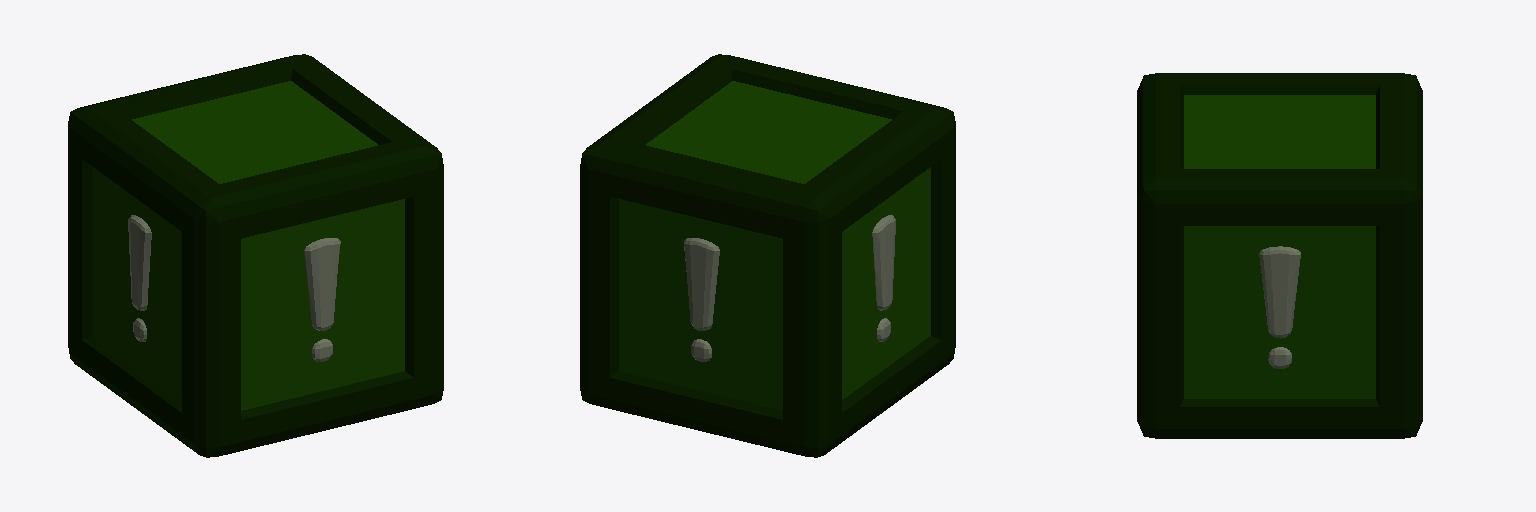
File: Cube_Exclamation.obj
3 renders of one model, left to right at view 1: azimuth 30°, elevation 25°; view 2: azimuth 150°, elevation 25°; view 3: azimuth 270°, elevation 25°, orthographic.
Visible parts, largest first — view 1: Cube_Exclamation_Cube.253; view 2: Cube_Exclamation_Cube.253; view 3: Cube_Exclamation_Cube.253.
Part boxes in pixels (left/top/right/bottom): Cube_Exclamation_Cube.253: left=68, top=54, right=443, bottom=457; Cube_Exclamation_Cube.253: left=580, top=54, right=955, bottom=457; Cube_Exclamation_Cube.253: left=1137, top=73, right=1422, bottom=438.
Bounding box in the file's own units: 2.02 × 2.02 × 2.02.